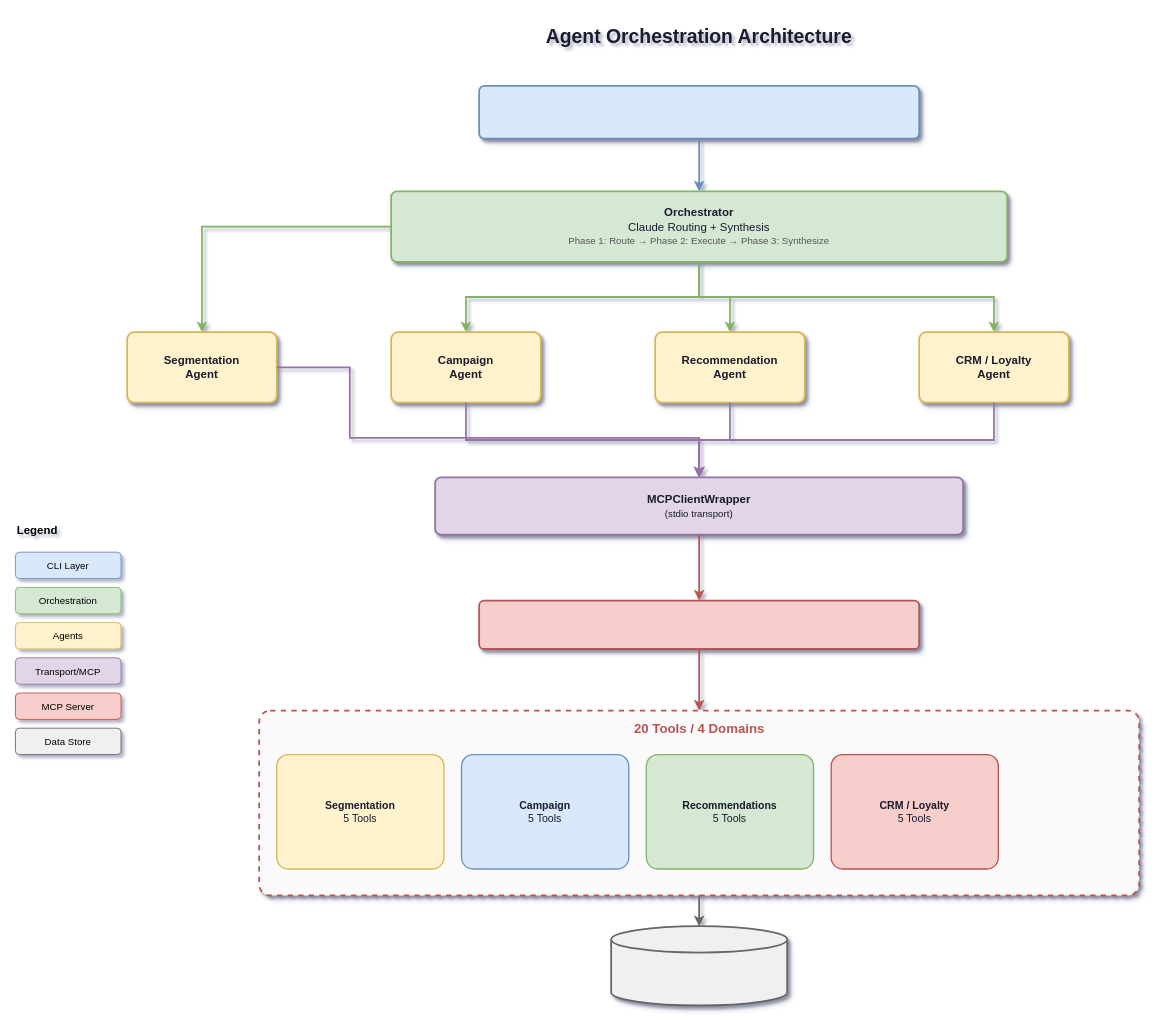
This 1166x1032 diagram has some shape labels left out. The centre of each missing label's shape, as x and y in pixels:
DataStore (JSON): point 699,966
FastMCP Server: point 699,626
main.py Rich CLI: point 699,113
